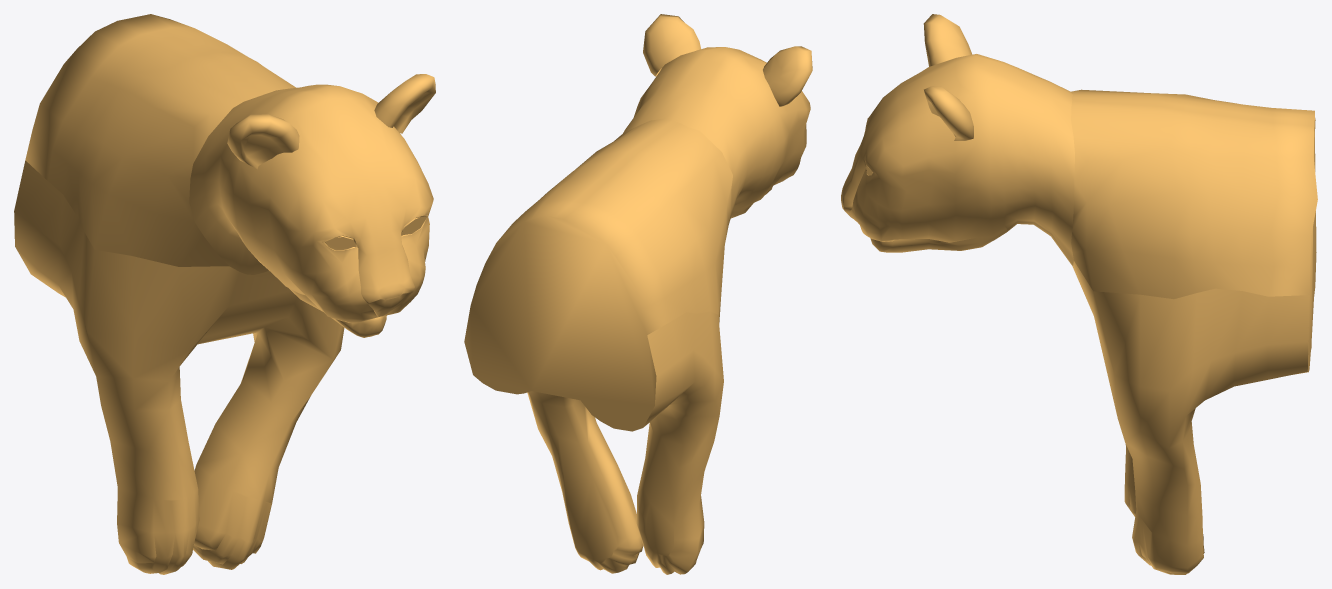
The model's file is modelo-01.glb.
The picture shows the model from 3 angles, left to right: view 1: azimuth 30°, elevation 25°; view 2: azimuth 150°, elevation 25°; view 3: azimuth 270°, elevation 25°; orthographic projection. The views are drawn at different scales.
Parts seen in each view (by area): view 1: Onça; view 2: Onça; view 3: Onça.
Part boxes in pixels (x1,y1,x2,y2): Onça: [14, 14, 435, 574]; Onça: [464, 14, 812, 574]; Onça: [841, 14, 1317, 574].
Bounding box in the file's own units: 2.44 × 5.16 × 4.37.
Materials: 1 (1 with a texture image).
